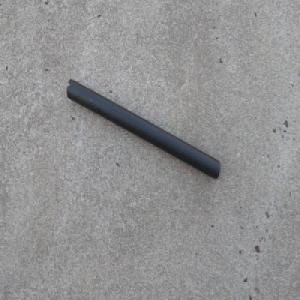LuggagePart: (64, 77, 221, 180)
